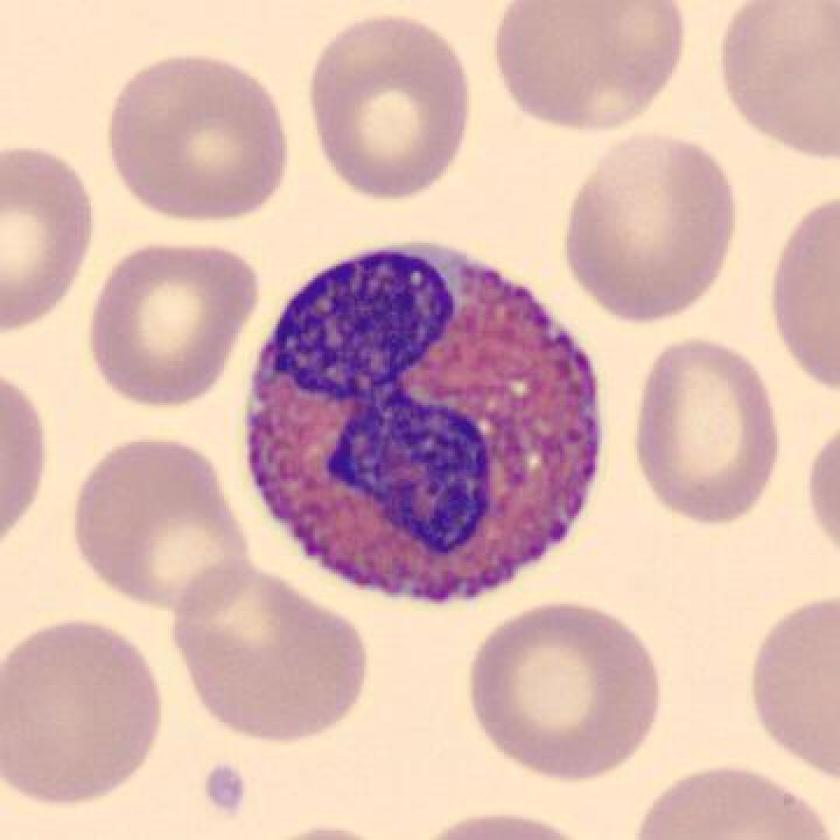eosinophil: (230, 225, 617, 626)
